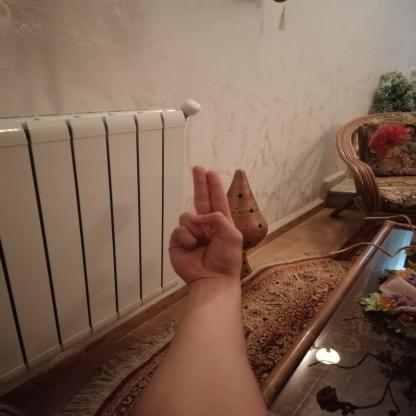TA: (158, 155, 255, 294)
